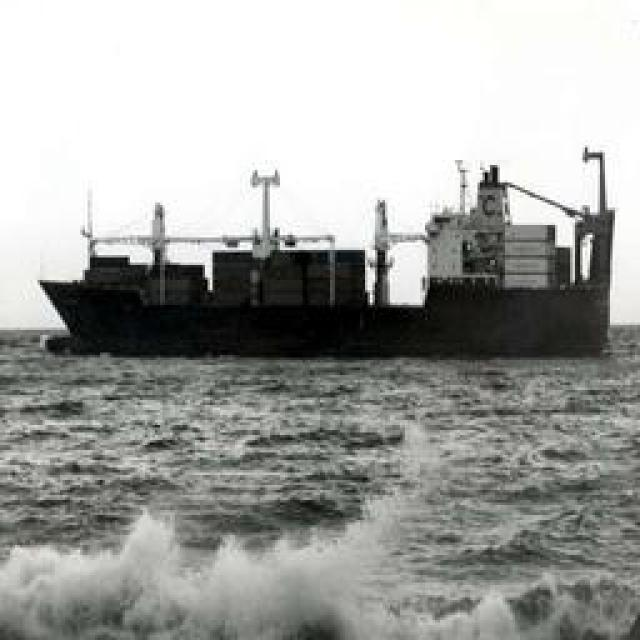Ship: (42, 166, 545, 354)
